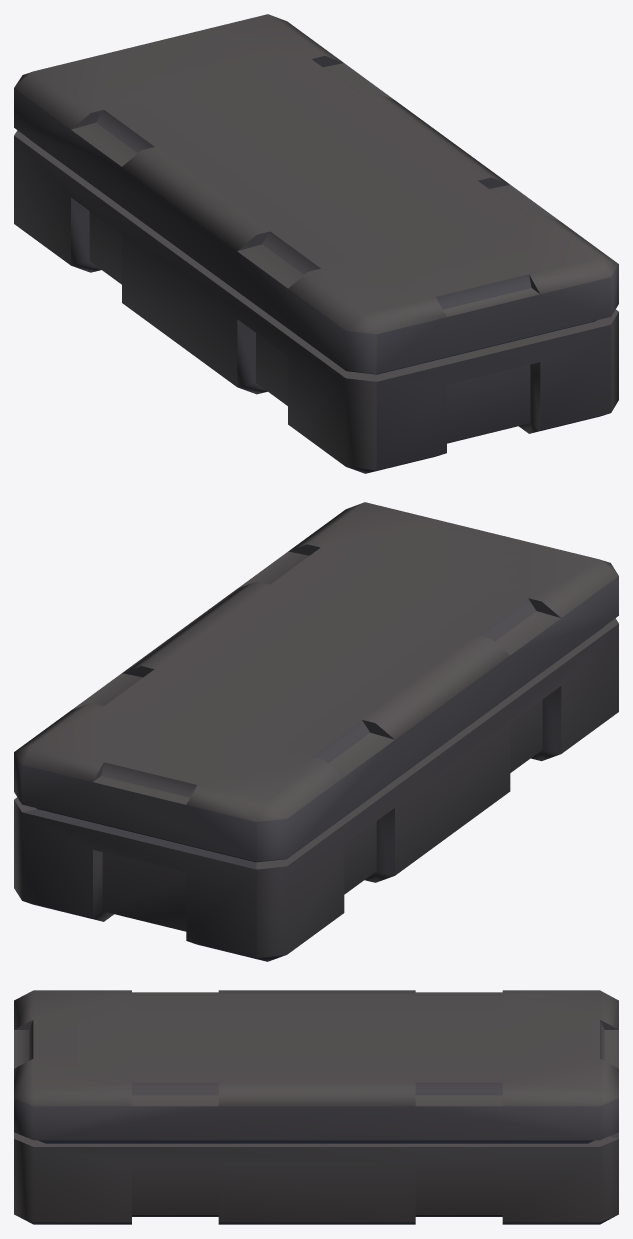
The model's file is MilitaryCrateCase.fbx.
The picture shows the model from 3 angles, top to bottom: view 1: azimuth 30°, elevation 25°; view 2: azimuth 150°, elevation 25°; view 3: azimuth 270°, elevation 25°; orthographic projection. The views are drawn at different scales.
Parts seen in each view (by area): view 1: MilitaryCrateCase; view 2: MilitaryCrateCase; view 3: MilitaryCrateCase.
Boxes of the visible parts, x1,y1,x2,y2 form: MilitaryCrateCase: (14, 14, 618, 473); MilitaryCrateCase: (14, 502, 618, 961); MilitaryCrateCase: (14, 990, 618, 1224).
Bounding box in the file's own units: 84.7 × 47.31 × 190.
